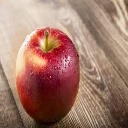apple: (14, 27, 81, 124)
